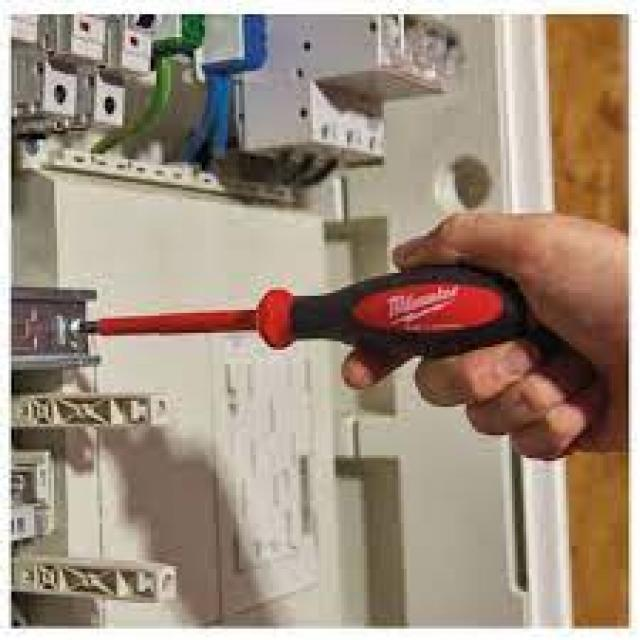screwdriver: (75, 256, 528, 356)
